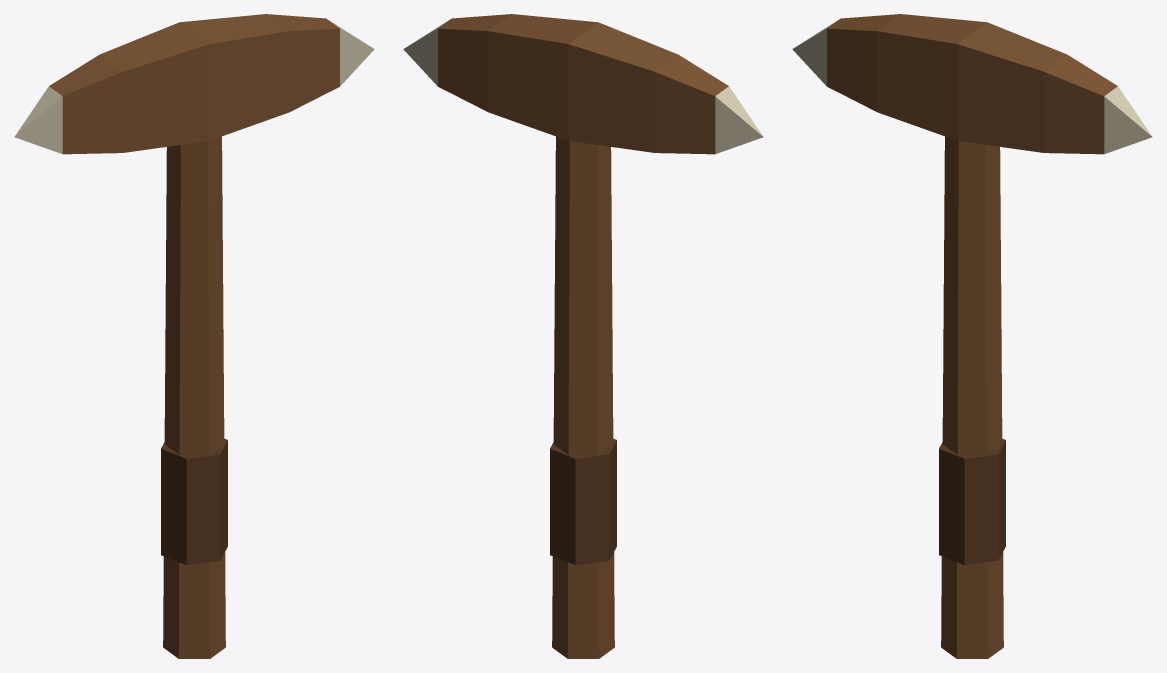
The model's file is wpn_pickaxe_wood_01.fbx.
The picture shows the model from 3 angles, left to right: view 1: azimuth 30°, elevation 25°; view 2: azimuth 150°, elevation 25°; view 3: azimuth 330°, elevation 25°; orthographic projection.
Parts seen in each view (by area): view 1: wpn_pickaxe_wood_01; view 2: wpn_pickaxe_wood_01; view 3: wpn_pickaxe_wood_01.
Part boxes in pixels (x1,y1,x2,y2): wpn_pickaxe_wood_01: [14, 14, 374, 658]; wpn_pickaxe_wood_01: [403, 14, 763, 658]; wpn_pickaxe_wood_01: [792, 14, 1152, 658].
Bounding box in the file's own units: 0.39 × 0.0629 × 0.635.
